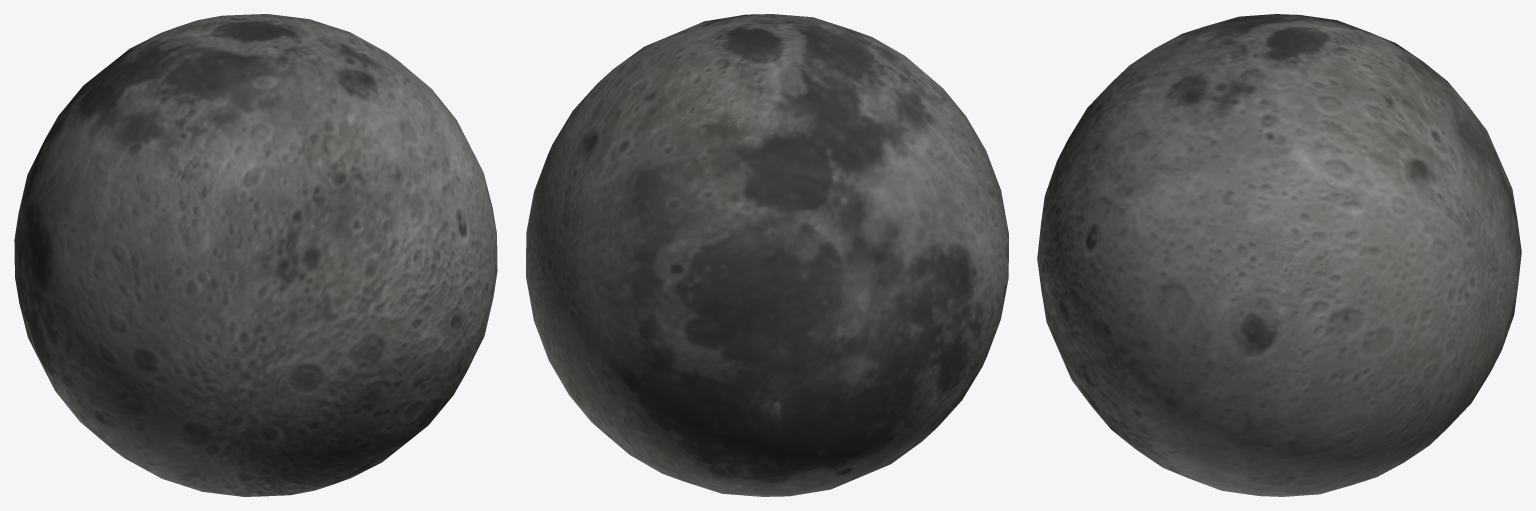
File: moonita.glb
The picture shows the model from 3 angles, left to right: view 1: azimuth 30°, elevation 25°; view 2: azimuth 150°, elevation 25°; view 3: azimuth 270°, elevation 25°; orthographic projection.
Parts seen in each view (by area): view 1: Moon_Cube.002; view 2: Moon_Cube.002; view 3: Moon_Cube.002.
Boxes of the visible parts, x1,y1,x2,y2 form: Moon_Cube.002: (14,14,497,496); Moon_Cube.002: (526,14,1008,496); Moon_Cube.002: (1037,14,1521,496).
Bounding box in the file's own units: 0.3447 × 0.3442 × 0.3454.
1 material, 1 textured.
